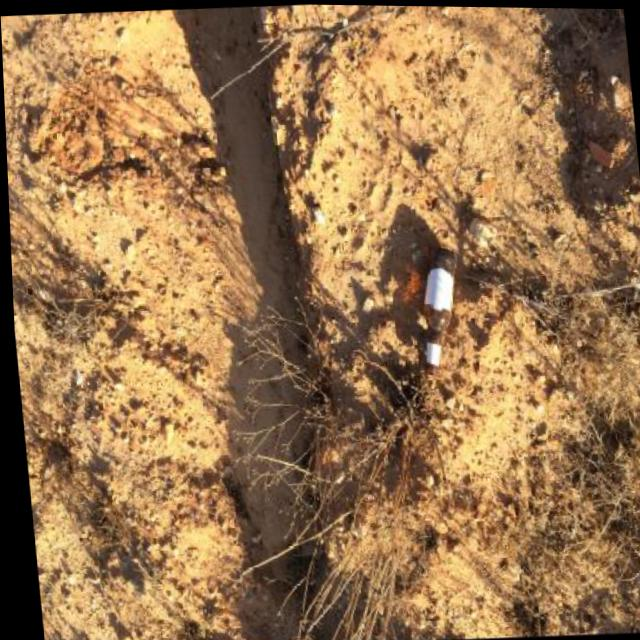glass: (413, 245, 469, 381)
